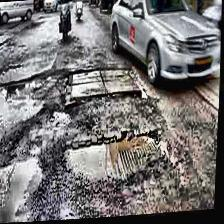pothole: (63, 128, 172, 188), (0, 144, 48, 224), (0, 74, 46, 138)
